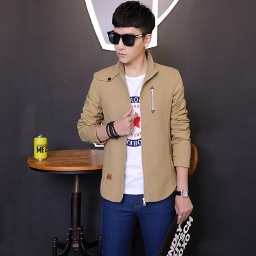face: (107, 1, 156, 65)
